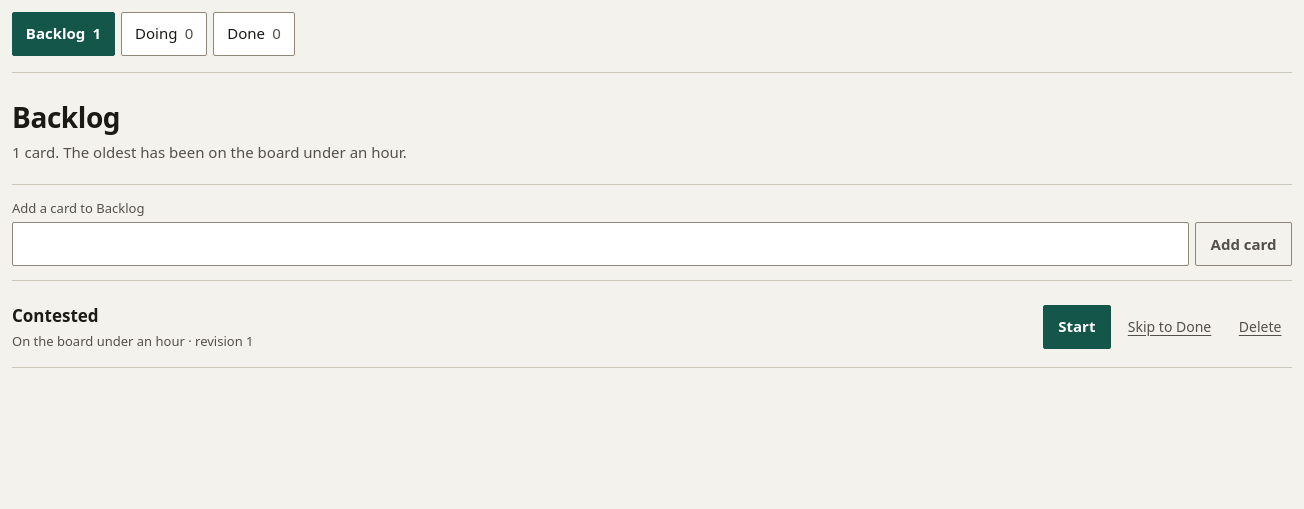
Test: Board › keeps the board and says how to recover when a delete is stale
The image size is (1304, 509).
Expected: the text "Contested" is shown, [12, 304, 99, 327]
Click the button named "Delete \"Contested\"" at (1260, 327), box [1228, 305, 1292, 349]
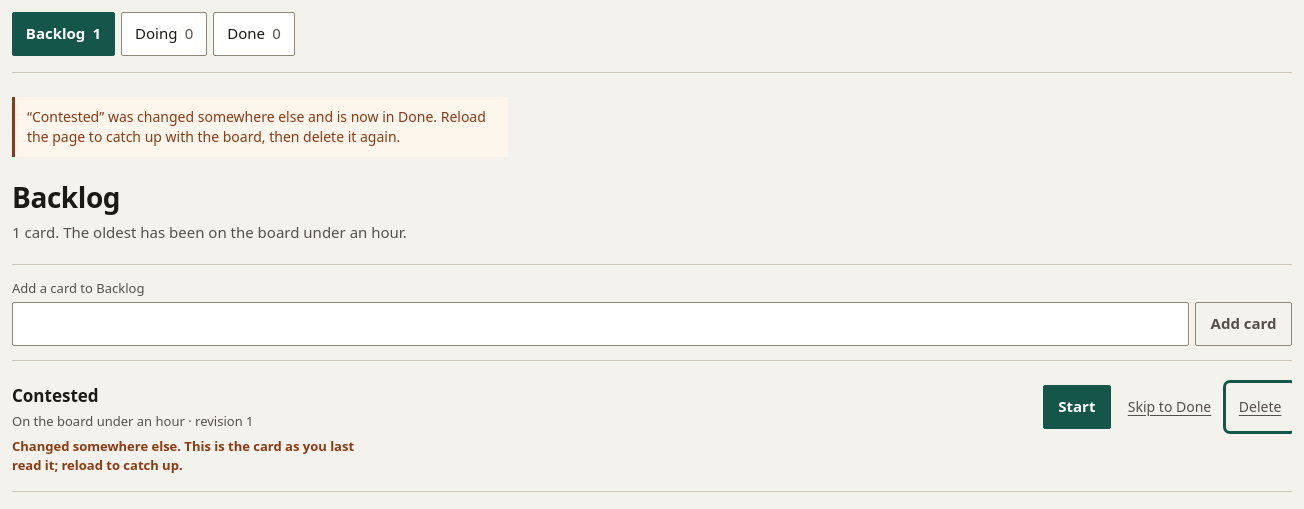
Expected: the message shows "Contested", [27, 107, 486, 146]
Expected: the message shows "Done", [27, 107, 486, 146]
Expected: the message shows "Reload", [27, 107, 486, 146]
